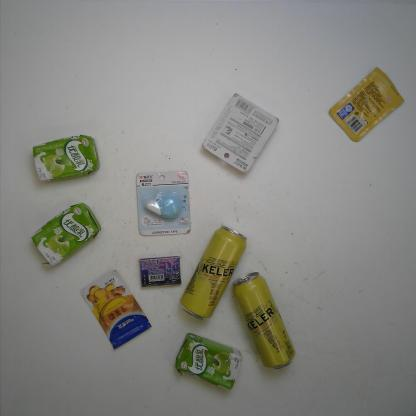Alcohol: (179, 224, 248, 320), (232, 270, 296, 370)
Gum: (139, 254, 182, 288)
Milk: (30, 201, 102, 267), (174, 332, 244, 392), (31, 133, 100, 183)
Seasoner: (328, 66, 406, 143), (79, 269, 152, 351)
Stationery: (201, 91, 280, 175), (135, 170, 192, 237)
